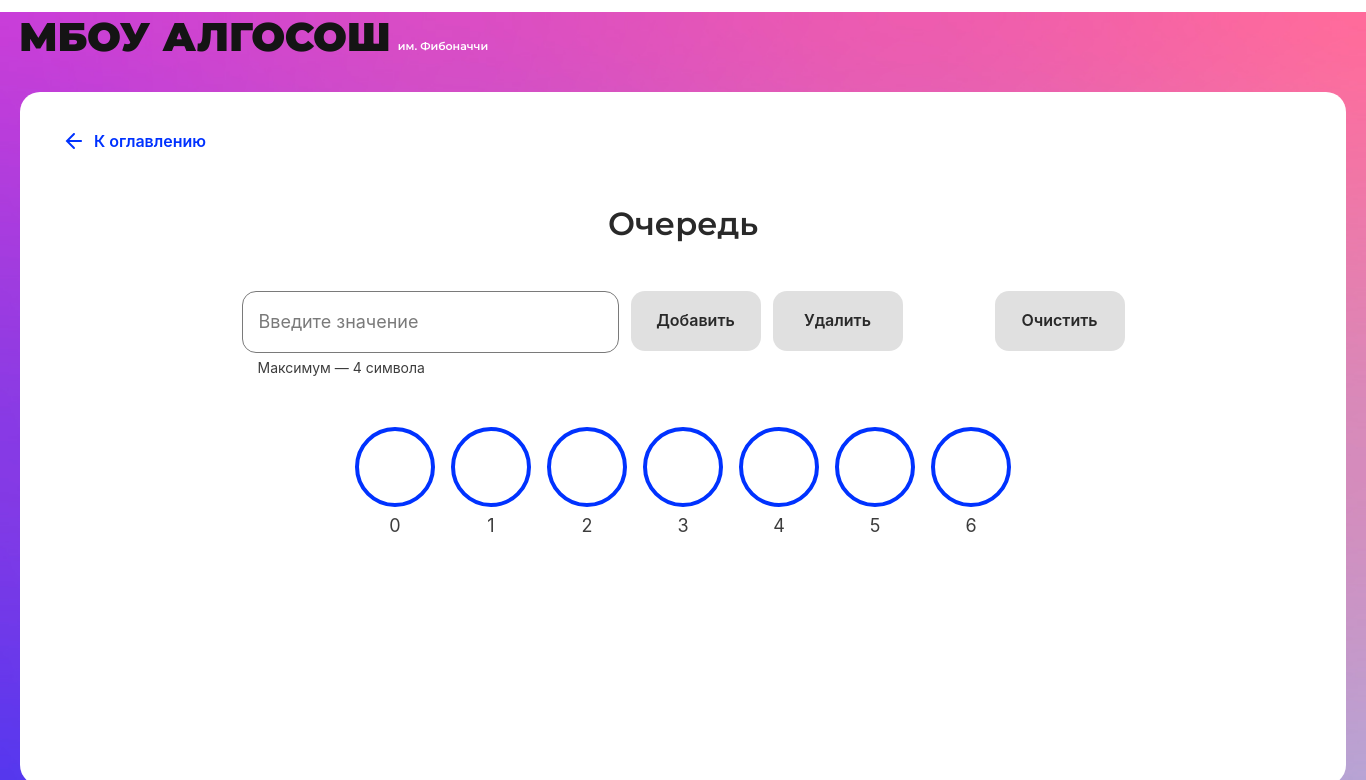
Test: queue component works correctly › check the button's status › After clear the queue, then all buttons is not available
The width and height of the screenshot is (1366, 780).
Step 1. Type "239" into the field with placeholder "Введите значение" → (431, 322), box [242,291,619,353]
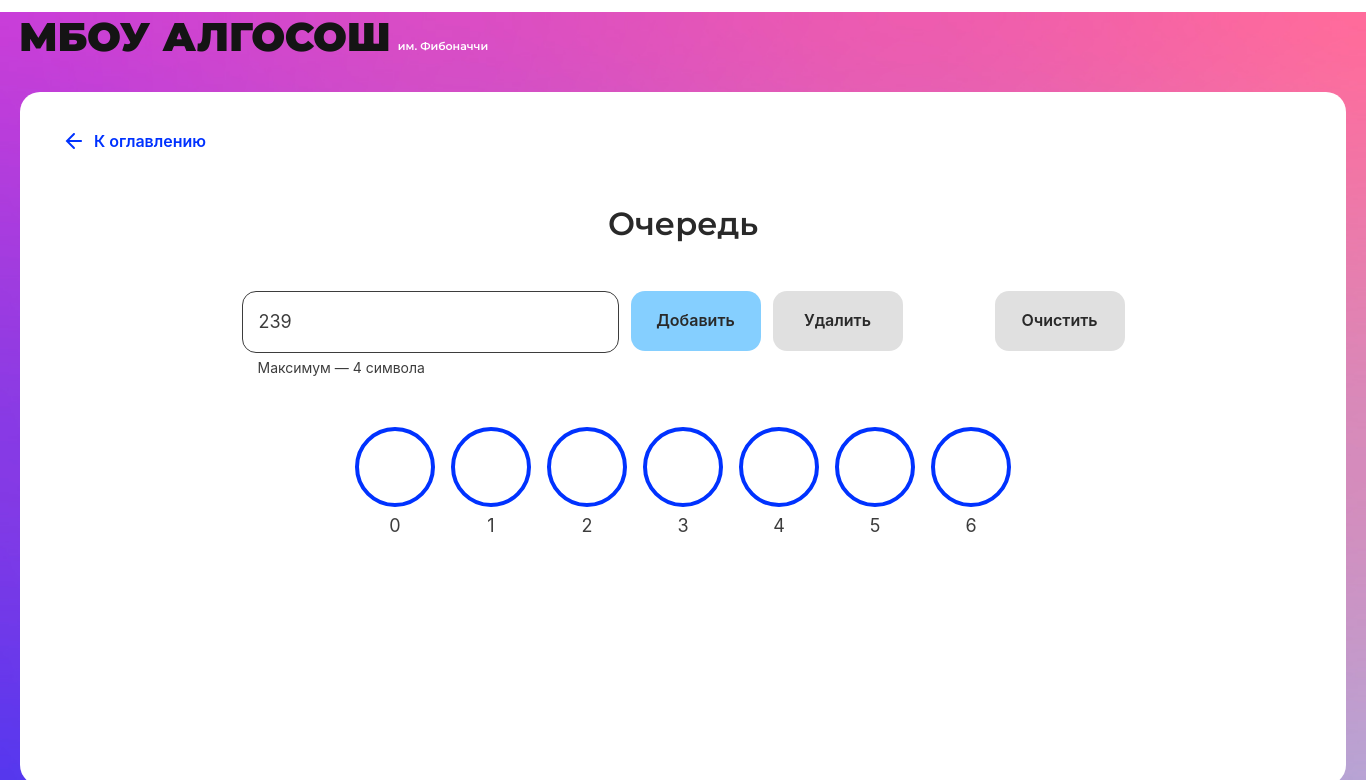
Step 2. Click the button "Добавить" → (696, 321), box [631,291,761,351]
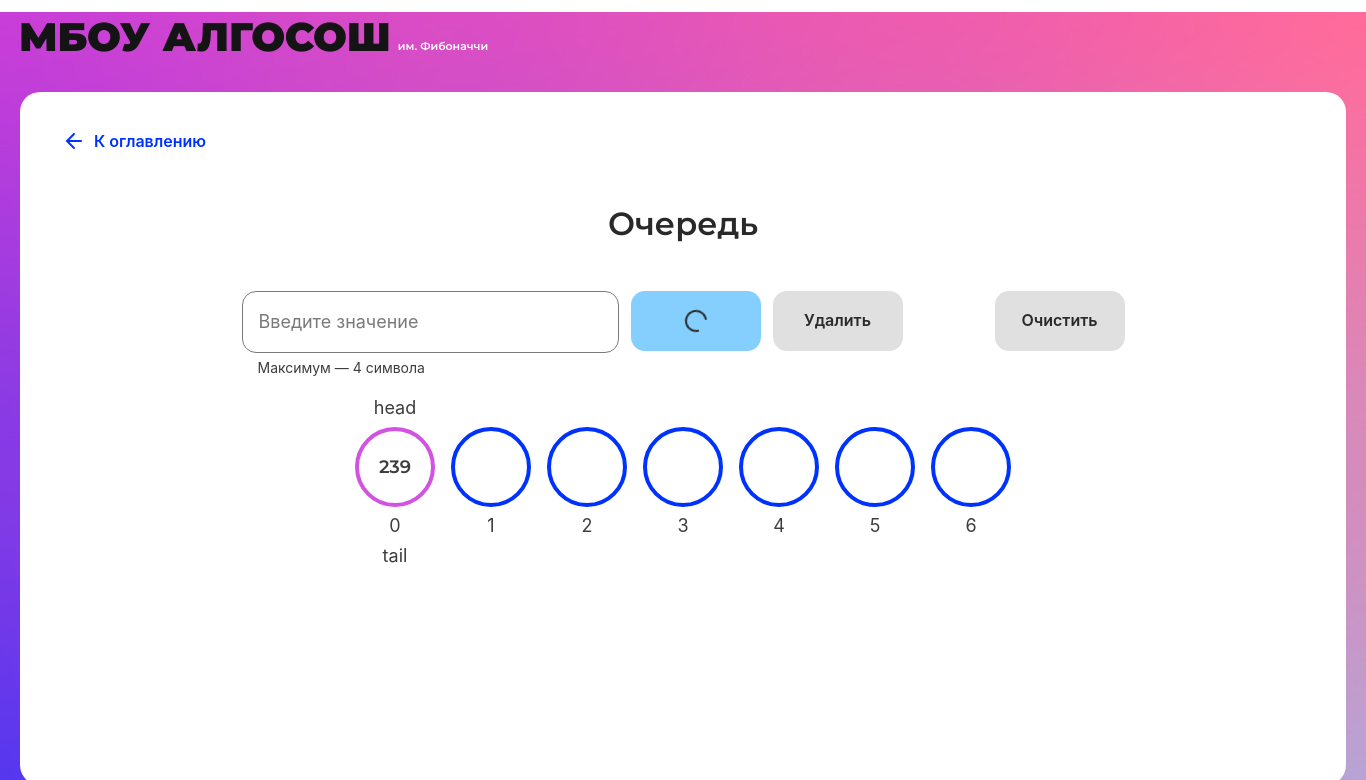
Step 3. Type "fml" into the field with placeholder "Введите значение" → (431, 322), box [242,291,619,353]
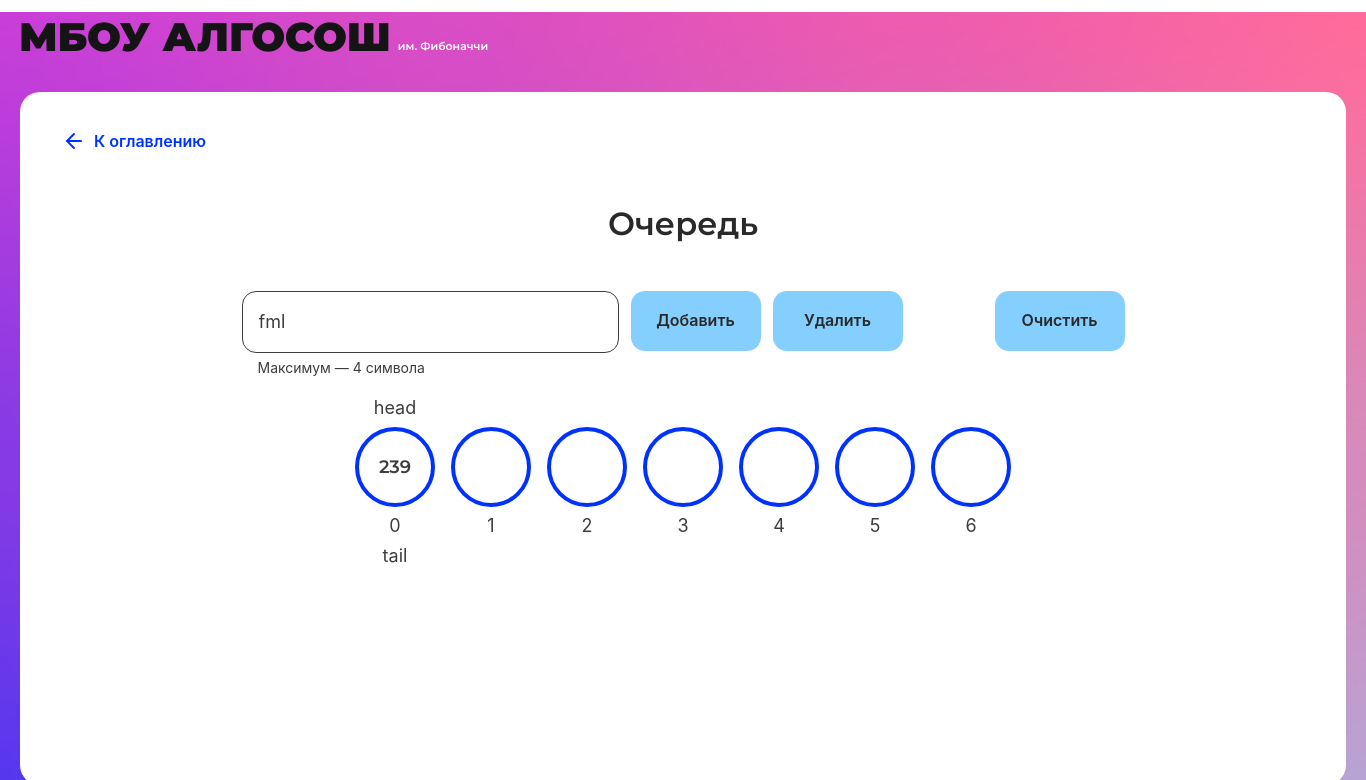
Step 4. Click the button "Добавить" → (696, 321), box [631,291,761,351]
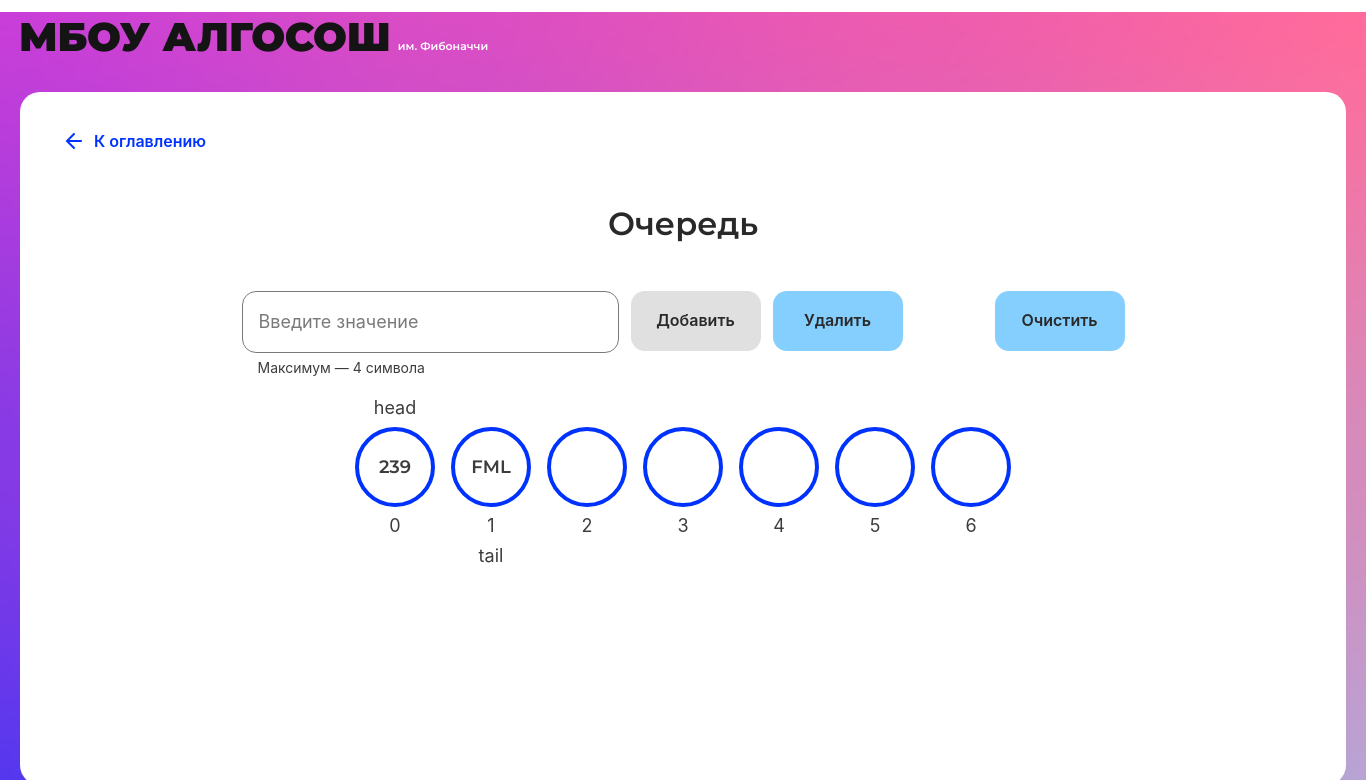
Step 5. Click the button "Очистить" → (1060, 321), box [995,291,1125,351]
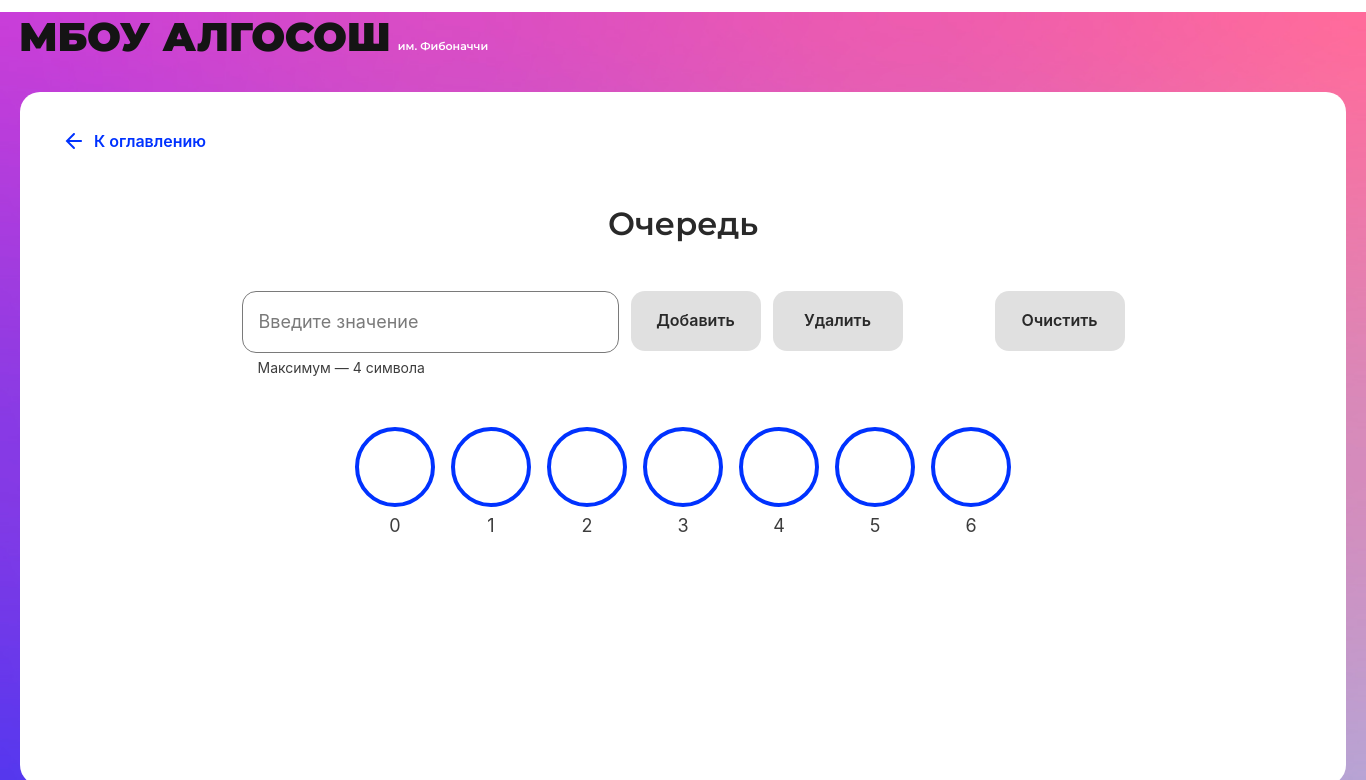
expect the button "Добавить" is disabled: met, box [631,291,761,351]
expect the button "Удалить" is disabled: met, box [773,291,903,351]
expect the button "Очистить" is disabled: met, box [995,291,1125,351]
